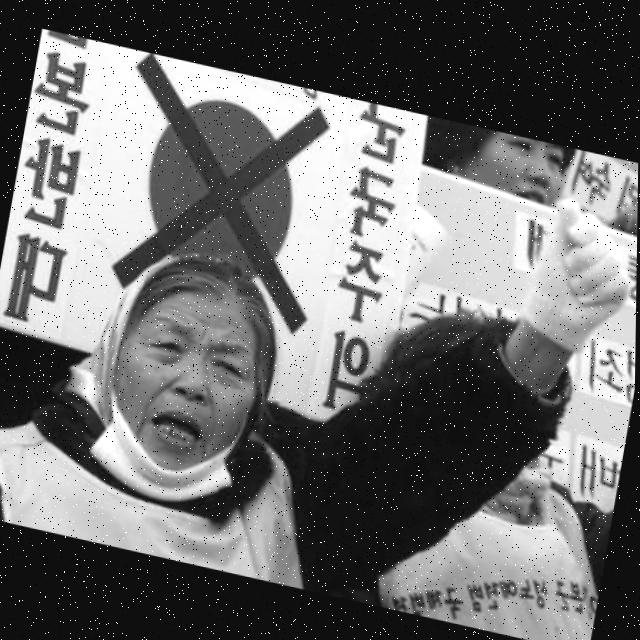face: (69, 253, 296, 508)
